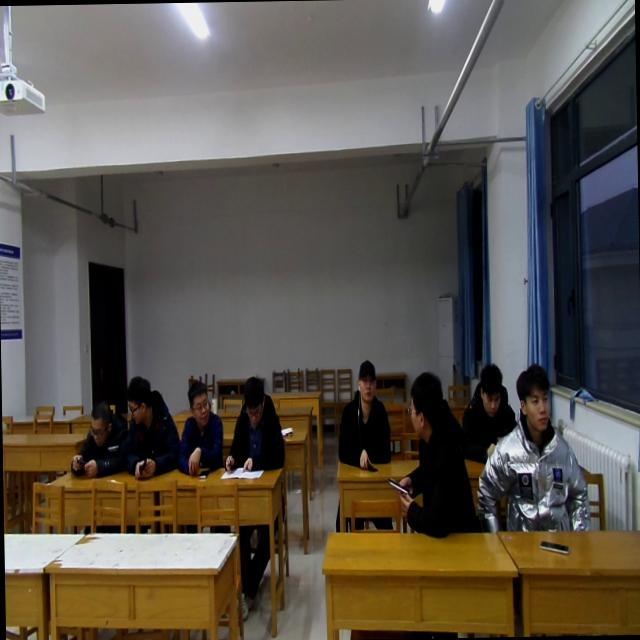bow: (68, 400, 128, 476)
down: (238, 369, 267, 427), (476, 358, 503, 415), (84, 398, 113, 448)
lookup: (512, 362, 552, 436), (352, 356, 376, 408)
sit: (473, 364, 592, 535), (391, 370, 479, 536), (331, 358, 394, 532), (223, 374, 287, 476), (116, 376, 178, 478), (460, 358, 518, 459), (176, 381, 224, 476)
